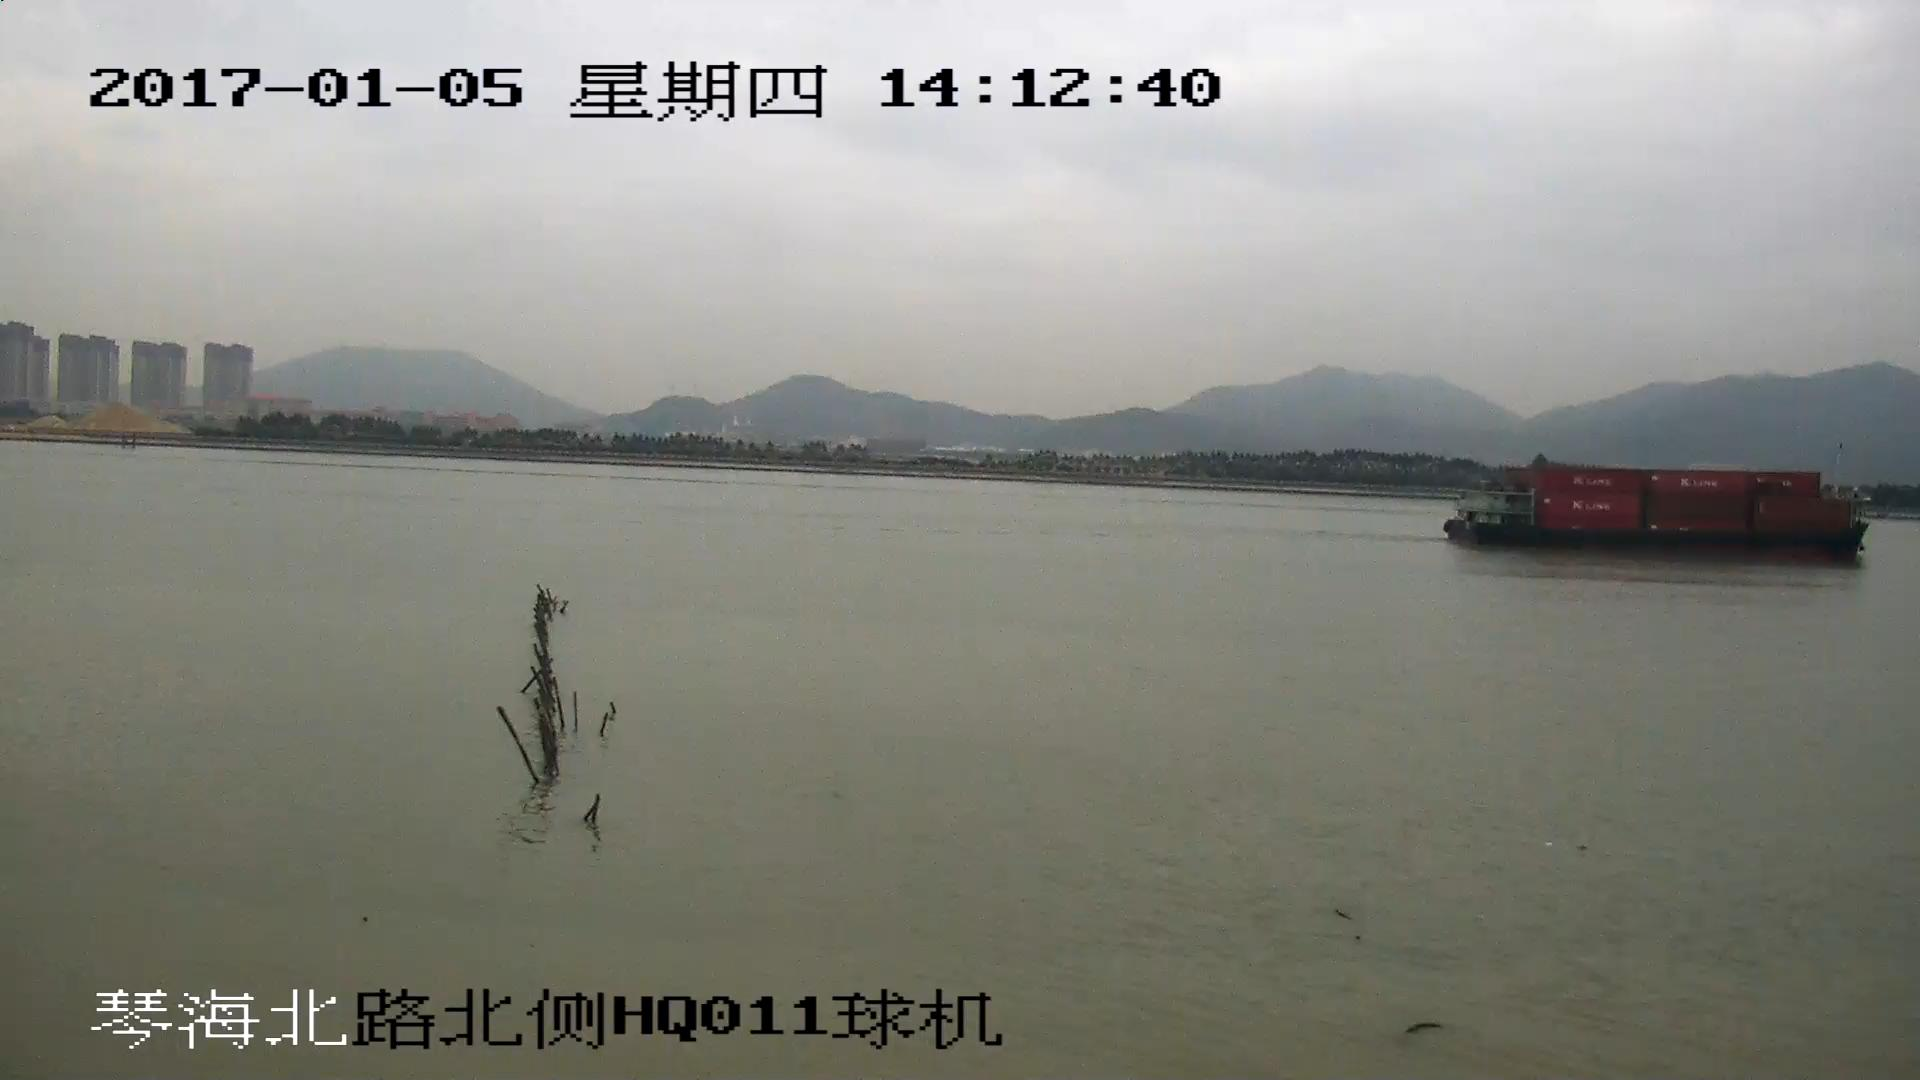container ship: (1443, 463, 1866, 561)
